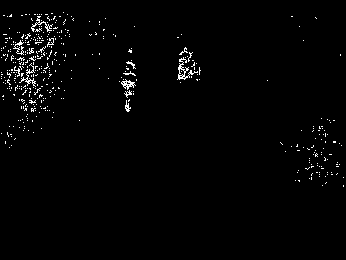person: (122, 60, 141, 114)
